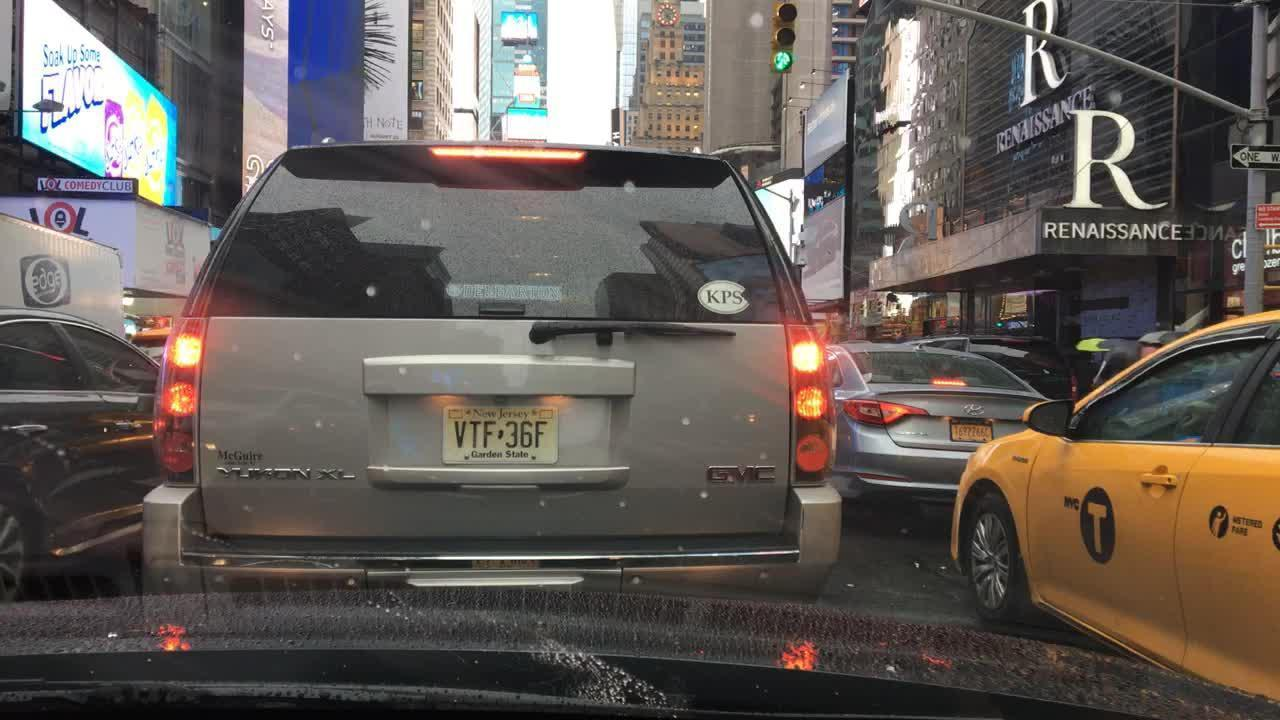GMC: (706, 452, 781, 501)
Hyundai: (961, 401, 989, 420)
